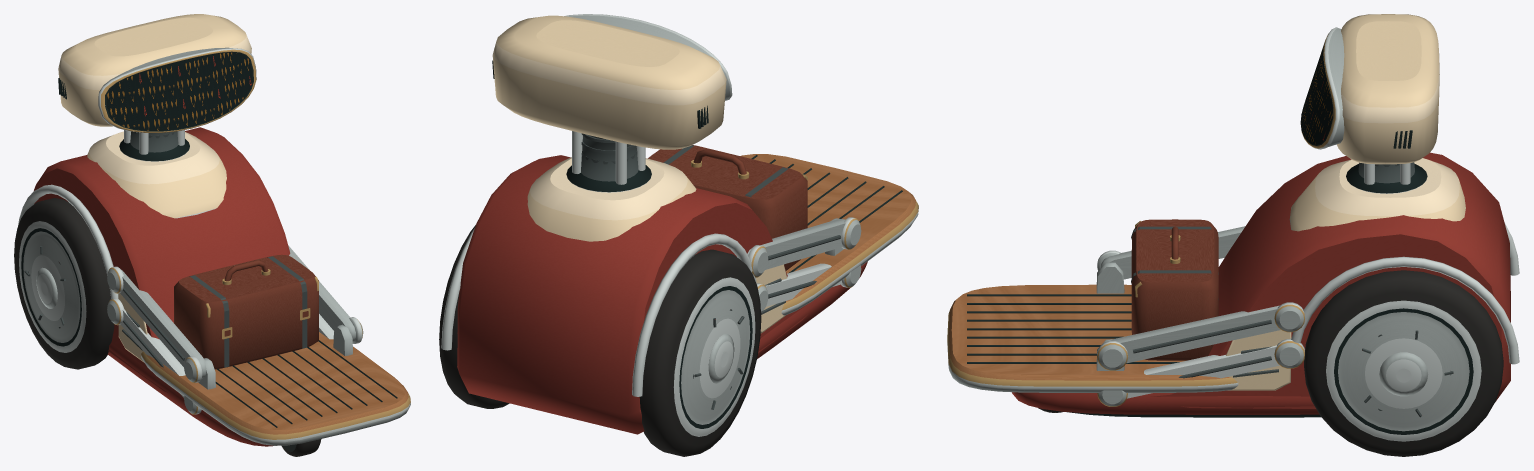
File: Porter-L0.fbx
The picture shows the model from 3 angles, left to right: view 1: azimuth 30°, elevation 25°; view 2: azimuth 150°, elevation 25°; view 3: azimuth 270°, elevation 25°; orthographic projection. The views are drawn at different scales.
Parts seen in each view (by area): view 1: Porter_Body, Porter_Deck, Porter_WheelL, Porter_Head, Porter_Head_Face, Porter_LinkUpper, Porter_LinkLower, Porter_NoseWheel; view 2: Porter_Body, Porter_Head, Porter_WheelL, Porter_Deck, Porter_LinkUpper, Porter_WheelR, Porter_LinkLower; view 3: Porter_Body, Porter_Deck, Porter_WheelR, Porter_Head, Porter_LinkUpper, Porter_LinkLower, Porter_Head_Face.
Boxes of the visible parts, x1,y1,x2,y2 form: Porter_Body: (18,127,290,446); Porter_Deck: (141,254,410,445); Porter_WheelL: (14,198,114,369); Porter_Head: (58,14,256,132); Porter_Head_Face: (106,52,252,130); Porter_LinkUpper: (107,245,363,383); Porter_LinkLower: (107,299,333,414); Porter_NoseWheel: (281,439,321,456); Porter_Body: (441,131,867,434); Porter_Head: (492,14,732,149); Porter_WheelL: (639,249,761,456); Porter_Deck: (648,145,918,315); Porter_LinkUpper: (747,217,861,277); Porter_WheelR: (439,225,509,408); Porter_LinkLower: (756,263,861,312); Porter_Body: (1012,152,1519,417); Porter_Deck: (947,219,1238,392); Porter_WheelR: (1304,270,1503,456); Porter_Head: (1300,14,1439,164); Porter_LinkUpper: (1097,226,1304,370); Porter_LinkLower: (1097,338,1304,406); Porter_Head_Face: (1301,42,1332,144).
Size of the model in its own units: 0.9639 by 1.39 by 2.02.
2 materials, 2 textured.
